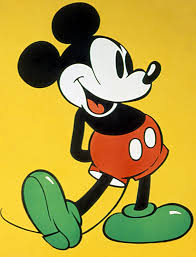mickey: (17, 1, 193, 250)
